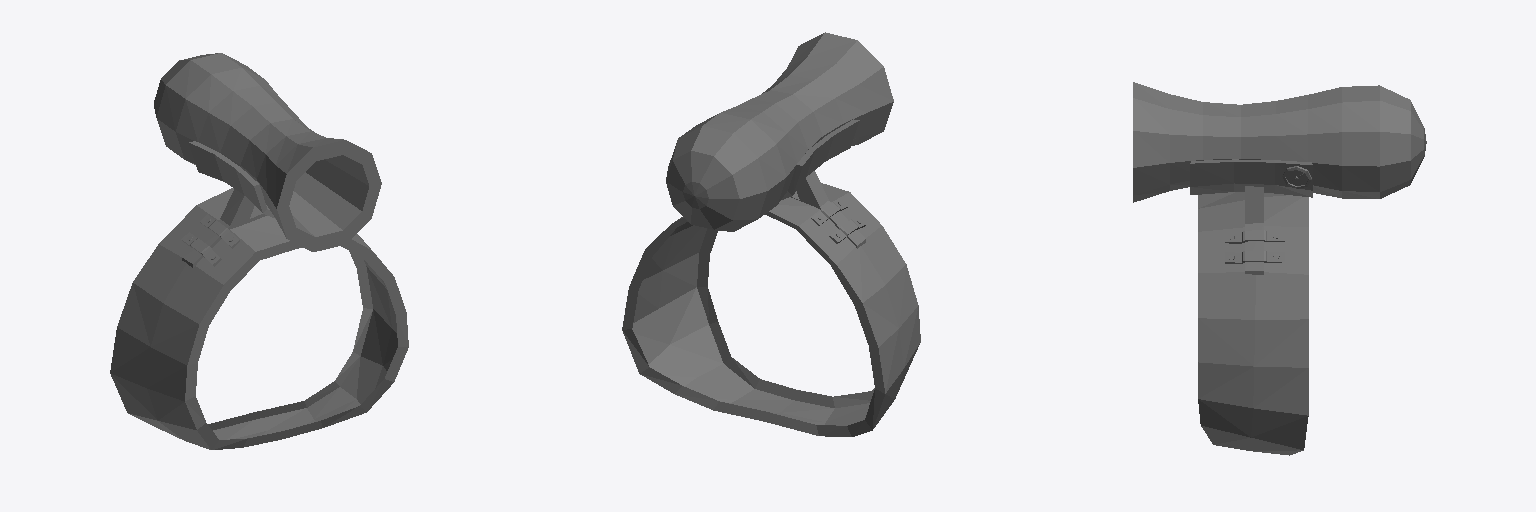
Rendered from Panda_Ranged.obj.
The picture shows the model from 3 angles: view 1: azimuth 30°, elevation 25°; view 2: azimuth 150°, elevation 25°; view 3: azimuth 270°, elevation 25°; orthographic projection.
Visible parts, largest first — view 1: harness Panda_Ranged, Panda_Ranged gun, Panda_Ranged hold; view 2: harness Panda_Ranged, Panda_Ranged gun, Panda_Ranged hold; view 3: Panda_Ranged gun, harness Panda_Ranged, Panda_Ranged hold.
Boxes of the visible parts, x1=… form: harness Panda_Ranged: x1=110, y1=188, x2=408, y2=449; Panda_Ranged gun: x1=154, y1=53, x2=381, y2=266; Panda_Ranged hold: x1=182, y1=141, x2=275, y2=267; harness Panda_Ranged: x1=622, y1=183, x2=920, y2=436; Panda_Ranged gun: x1=666, y1=32, x2=893, y2=243; Panda_Ranged hold: x1=782, y1=119, x2=865, y2=248; Panda_Ranged gun: x1=1133, y1=82, x2=1426, y2=263; harness Panda_Ranged: x1=1198, y1=192, x2=1308, y2=455; Panda_Ranged hold: x1=1190, y1=159, x2=1312, y2=274.
Size of the model in its own units: 7.98 by 9.62 by 7.71.